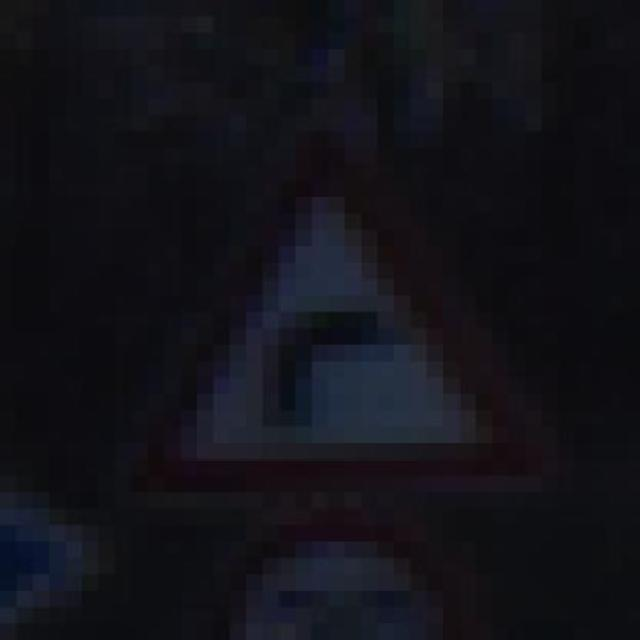Dangerous Rright Curve Ahead: (99, 114, 558, 526)
